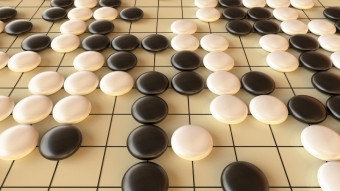black: (39, 124, 83, 162), (287, 95, 329, 126), (130, 95, 170, 124), (20, 34, 52, 52), (111, 33, 141, 52)
crossing: (268, 137, 288, 156), (226, 139, 247, 155), (98, 139, 116, 154), (107, 109, 119, 122), (238, 42, 250, 54), (152, 13, 164, 24)
white: (170, 124, 213, 163), (53, 94, 92, 125), (28, 71, 64, 95), (266, 51, 301, 75), (170, 34, 201, 53)
